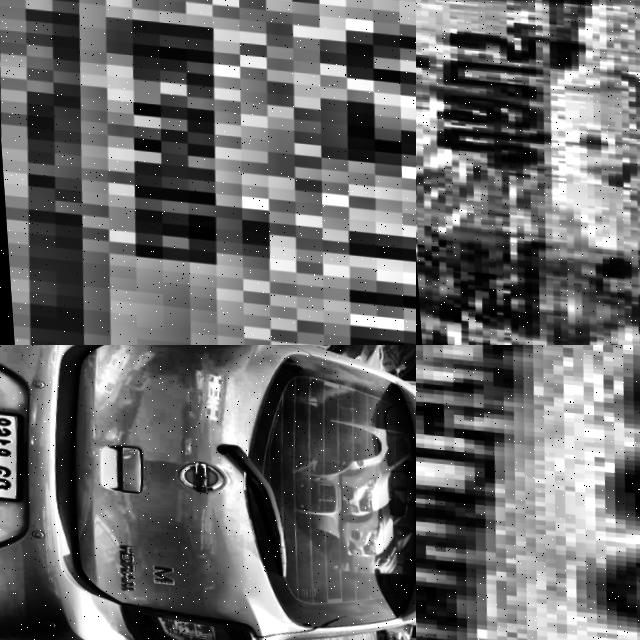license-plate: (0, 0, 416, 345), (416, 0, 640, 345), (416, 345, 640, 640), (0, 400, 27, 504)
